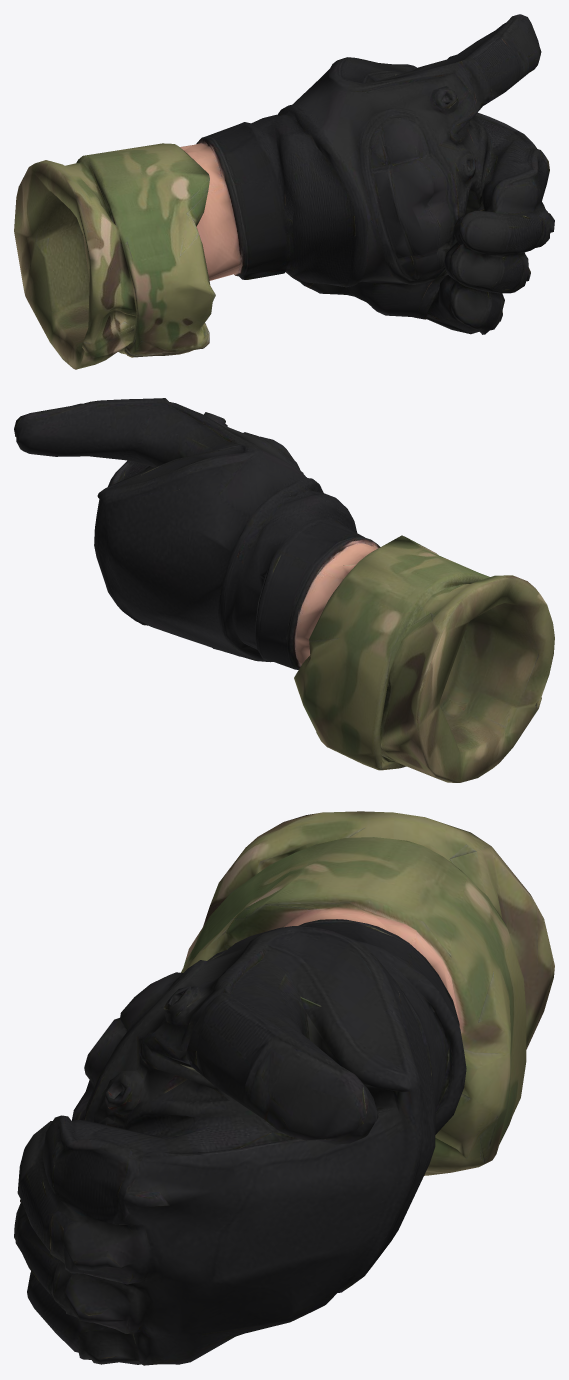
File: hand_right.glb
The picture shows the model from 3 angles, top to bottom: view 1: azimuth 30°, elevation 25°; view 2: azimuth 150°, elevation 25°; view 3: azimuth 270°, elevation 25°; orthographic projection. The views are drawn at different scales.
Visible parts, largest first — view 1: Mesh_0; view 2: Mesh_0; view 3: Mesh_0.
Boxes of the visible parts, x1,y1,x2,y2 form: Mesh_0: (14,14,554,369); Mesh_0: (14,398,554,782); Mesh_0: (14,811,554,1365).
Size of the model in its own units: 1.9 by 0.9371 by 1.13.
Materials: 1 (1 with a texture image).
